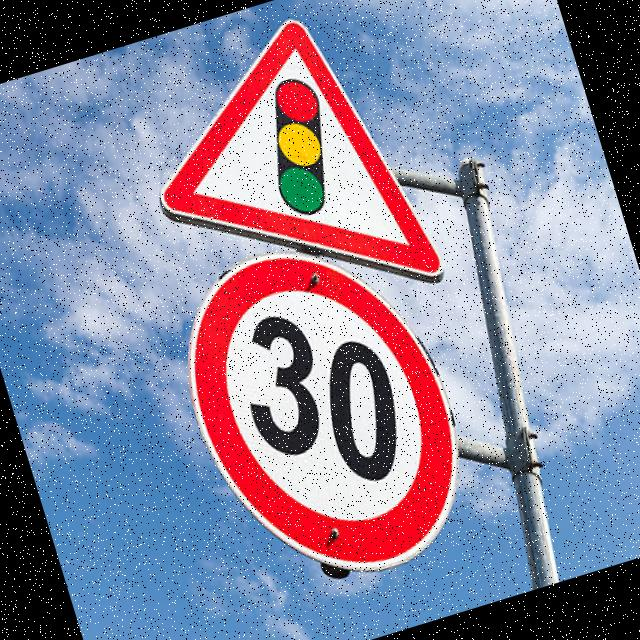light_traffic: (158, 17, 444, 276)
speed_limit_30: (185, 247, 463, 584)
